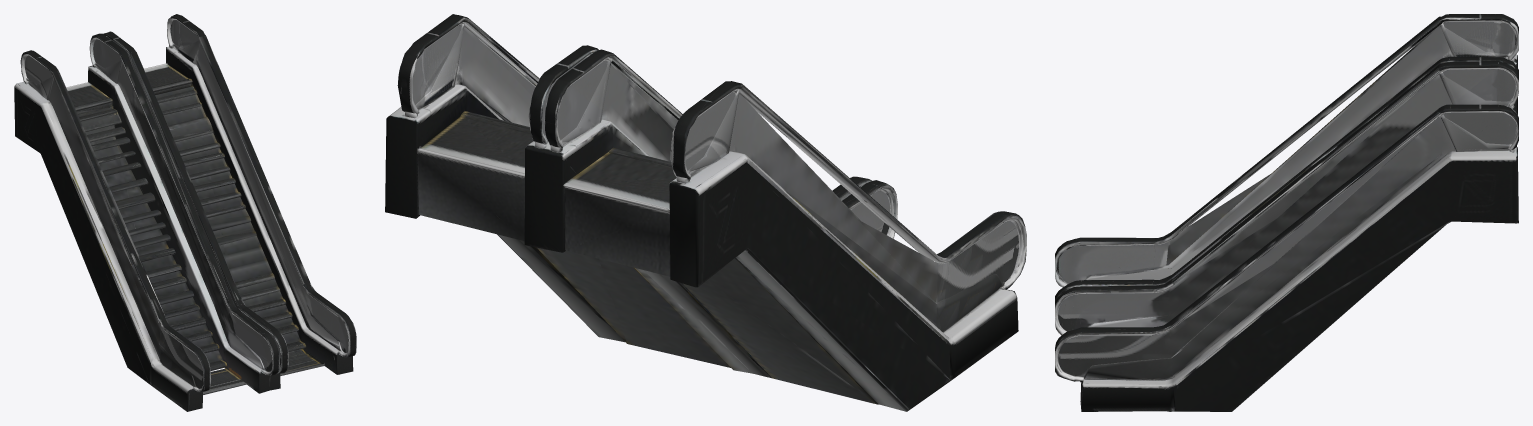
File: Meshy_AI_an_escalator_0917064623_texture.glb
3 views of the same model, side by side, from view 1: azimuth 30°, elevation 25°; view 2: azimuth 150°, elevation 25°; view 3: azimuth 270°, elevation 25° (orthographic). The views are drawn at different scales.
Bounding box in the file's own units: 0.5312 × 0.7148 × 1.
Materials: 1 (1 with a texture image).
